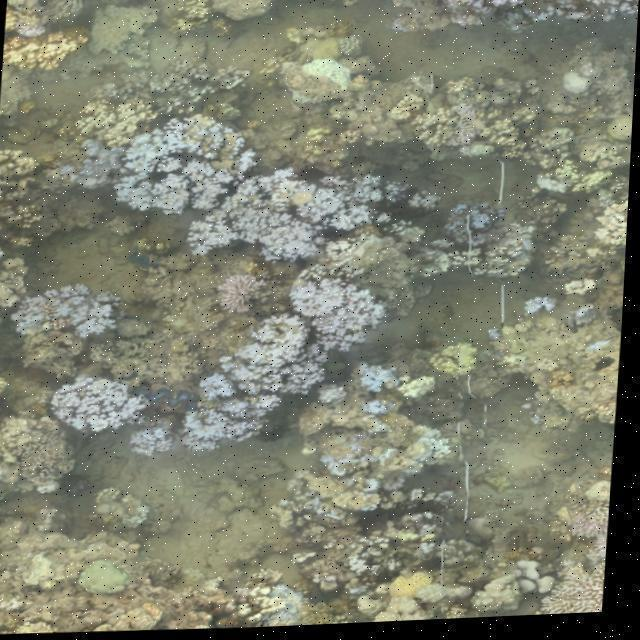Bleached Coral: (189, 276, 390, 472), (181, 166, 403, 268), (69, 114, 255, 221), (44, 363, 154, 444), (4, 278, 130, 347), (511, 291, 566, 334)
